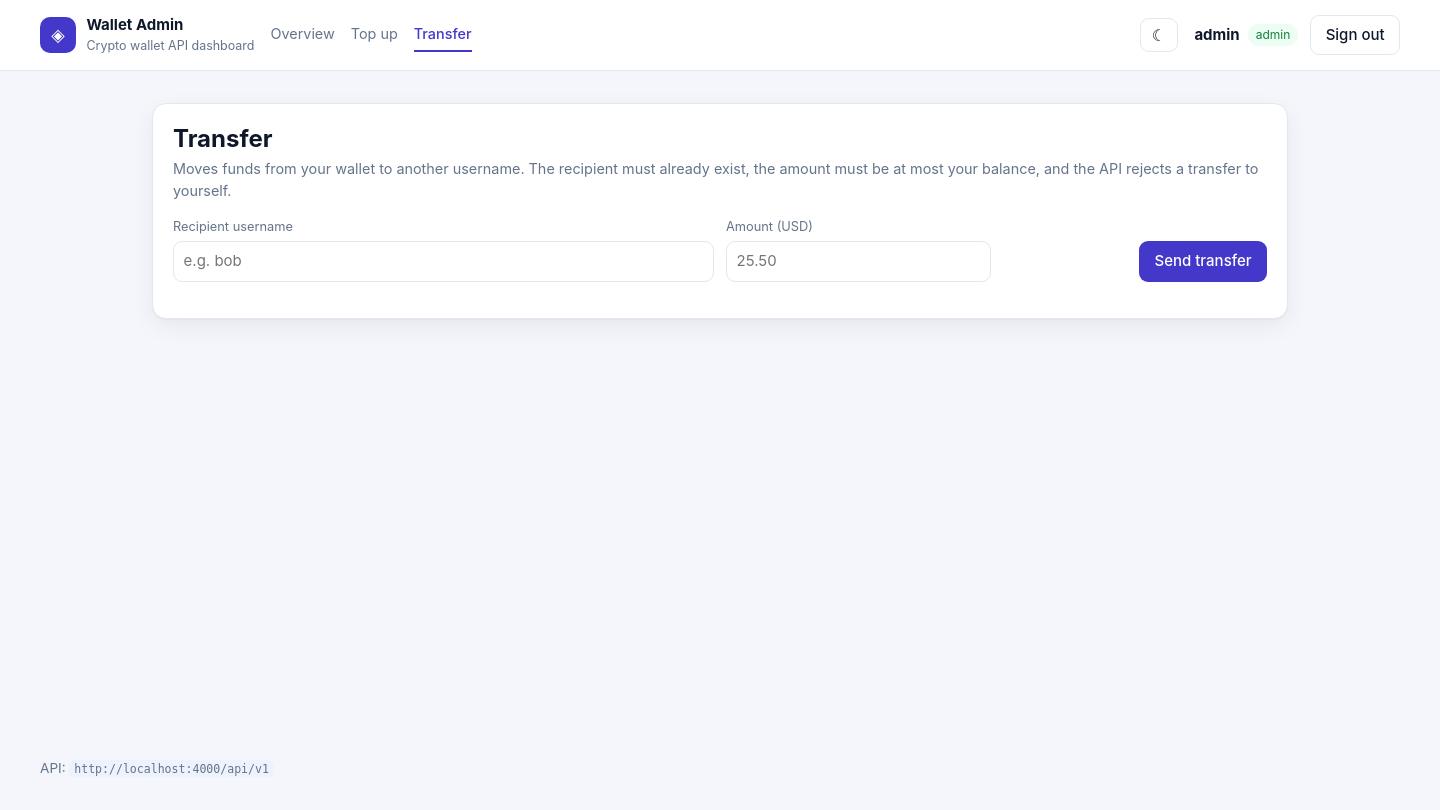
Test: transfer › shows the API message when the balance is too low
Type "bob" into the field labelled "Recipient username" at point(444, 261), box [173,241,714,282]
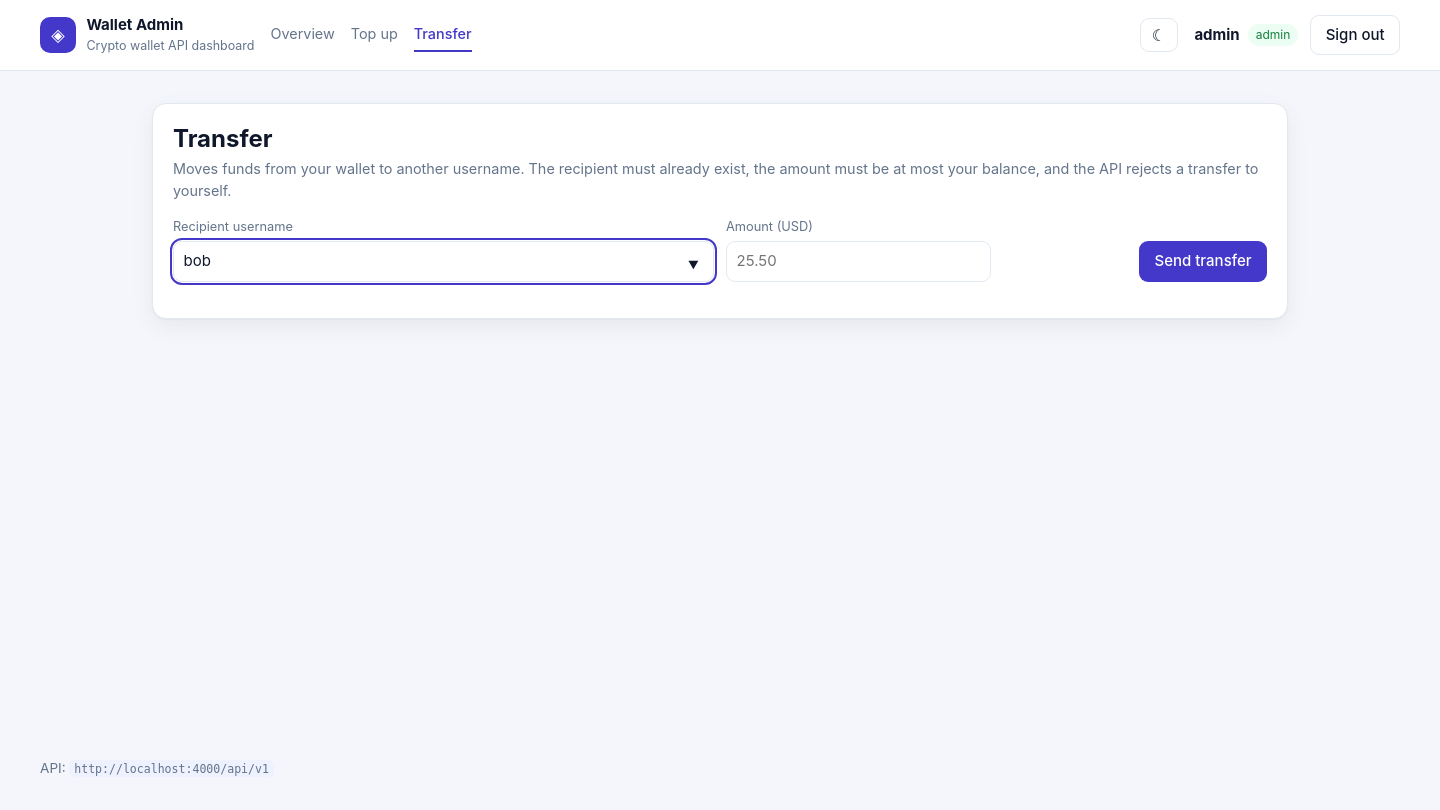
Type "9999" into the field labelled "Amount (USD)" at point(858, 261), box [726,241,990,282]
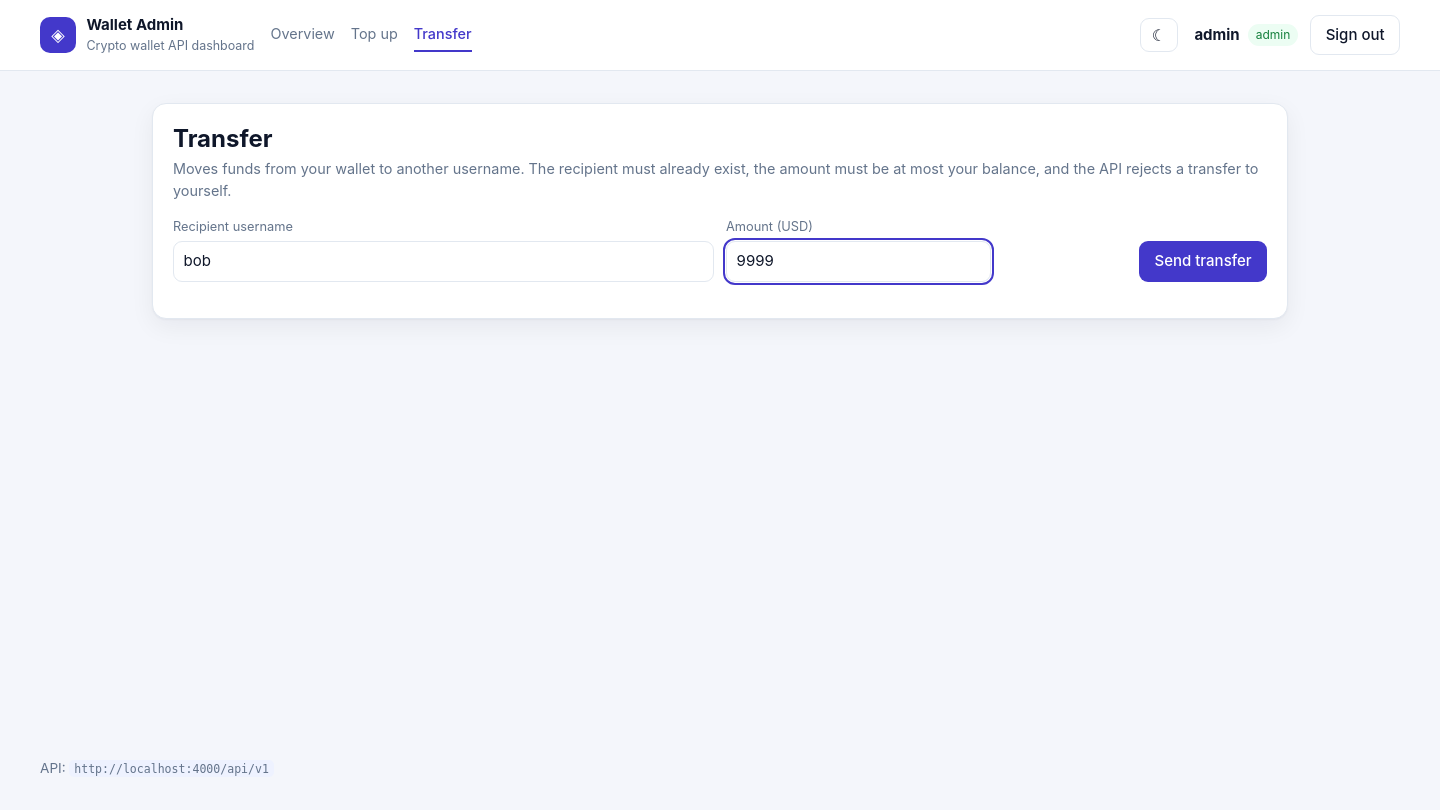
Click the button "Send transfer" at point(1203, 261), box [1139,241,1267,282]
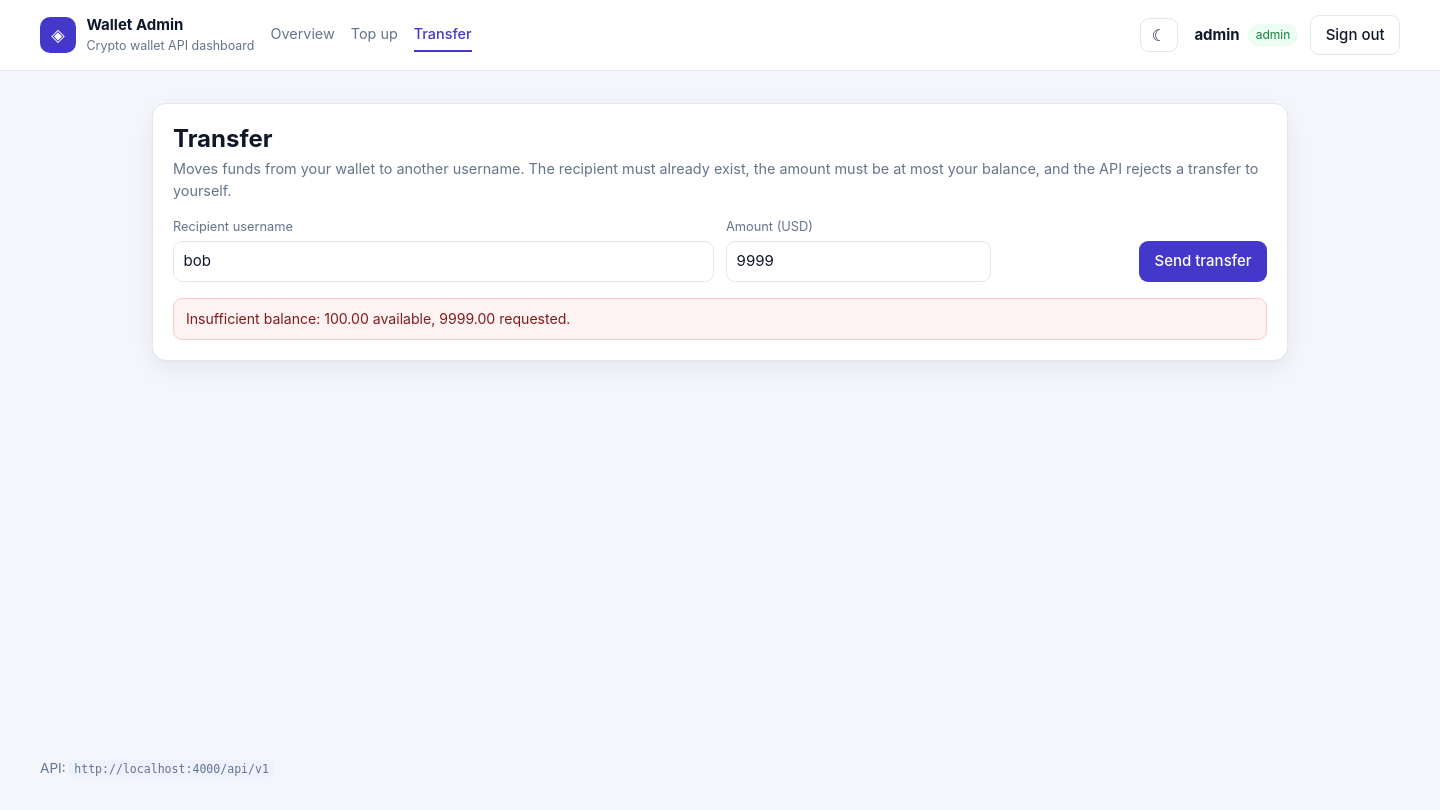
Now the message shows "Insufficient balance", box [186,310,570,327]
